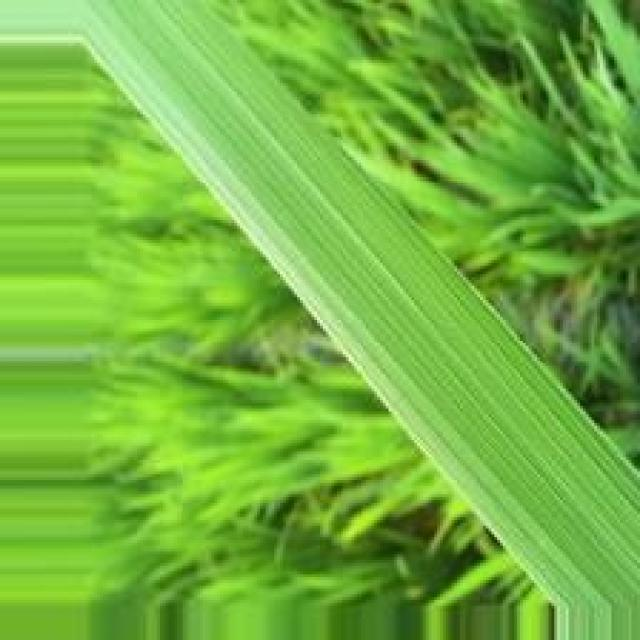HealthyLeaf: (93, 2, 638, 605)
